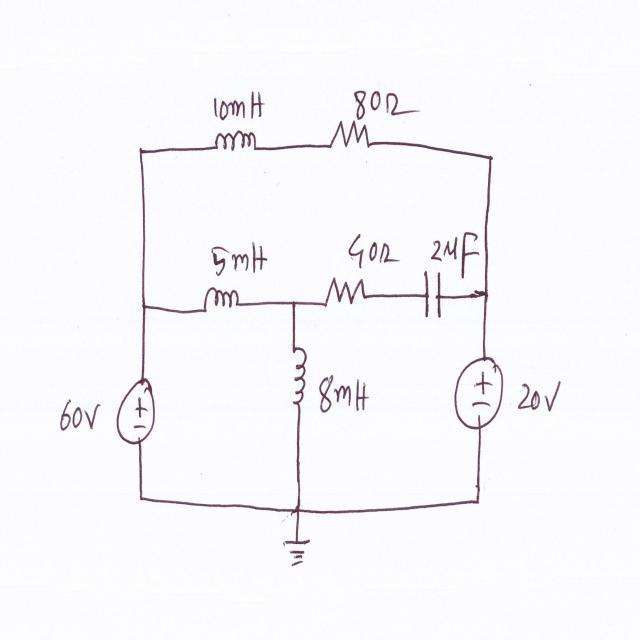capacitor: (419, 263, 446, 324)
ground: (281, 527, 316, 574)
inductor: (198, 277, 242, 324), (285, 338, 312, 410), (208, 126, 264, 159)
resistor: (316, 274, 371, 321), (320, 115, 380, 153)
voltage_source: (450, 352, 510, 433), (114, 373, 163, 455)
